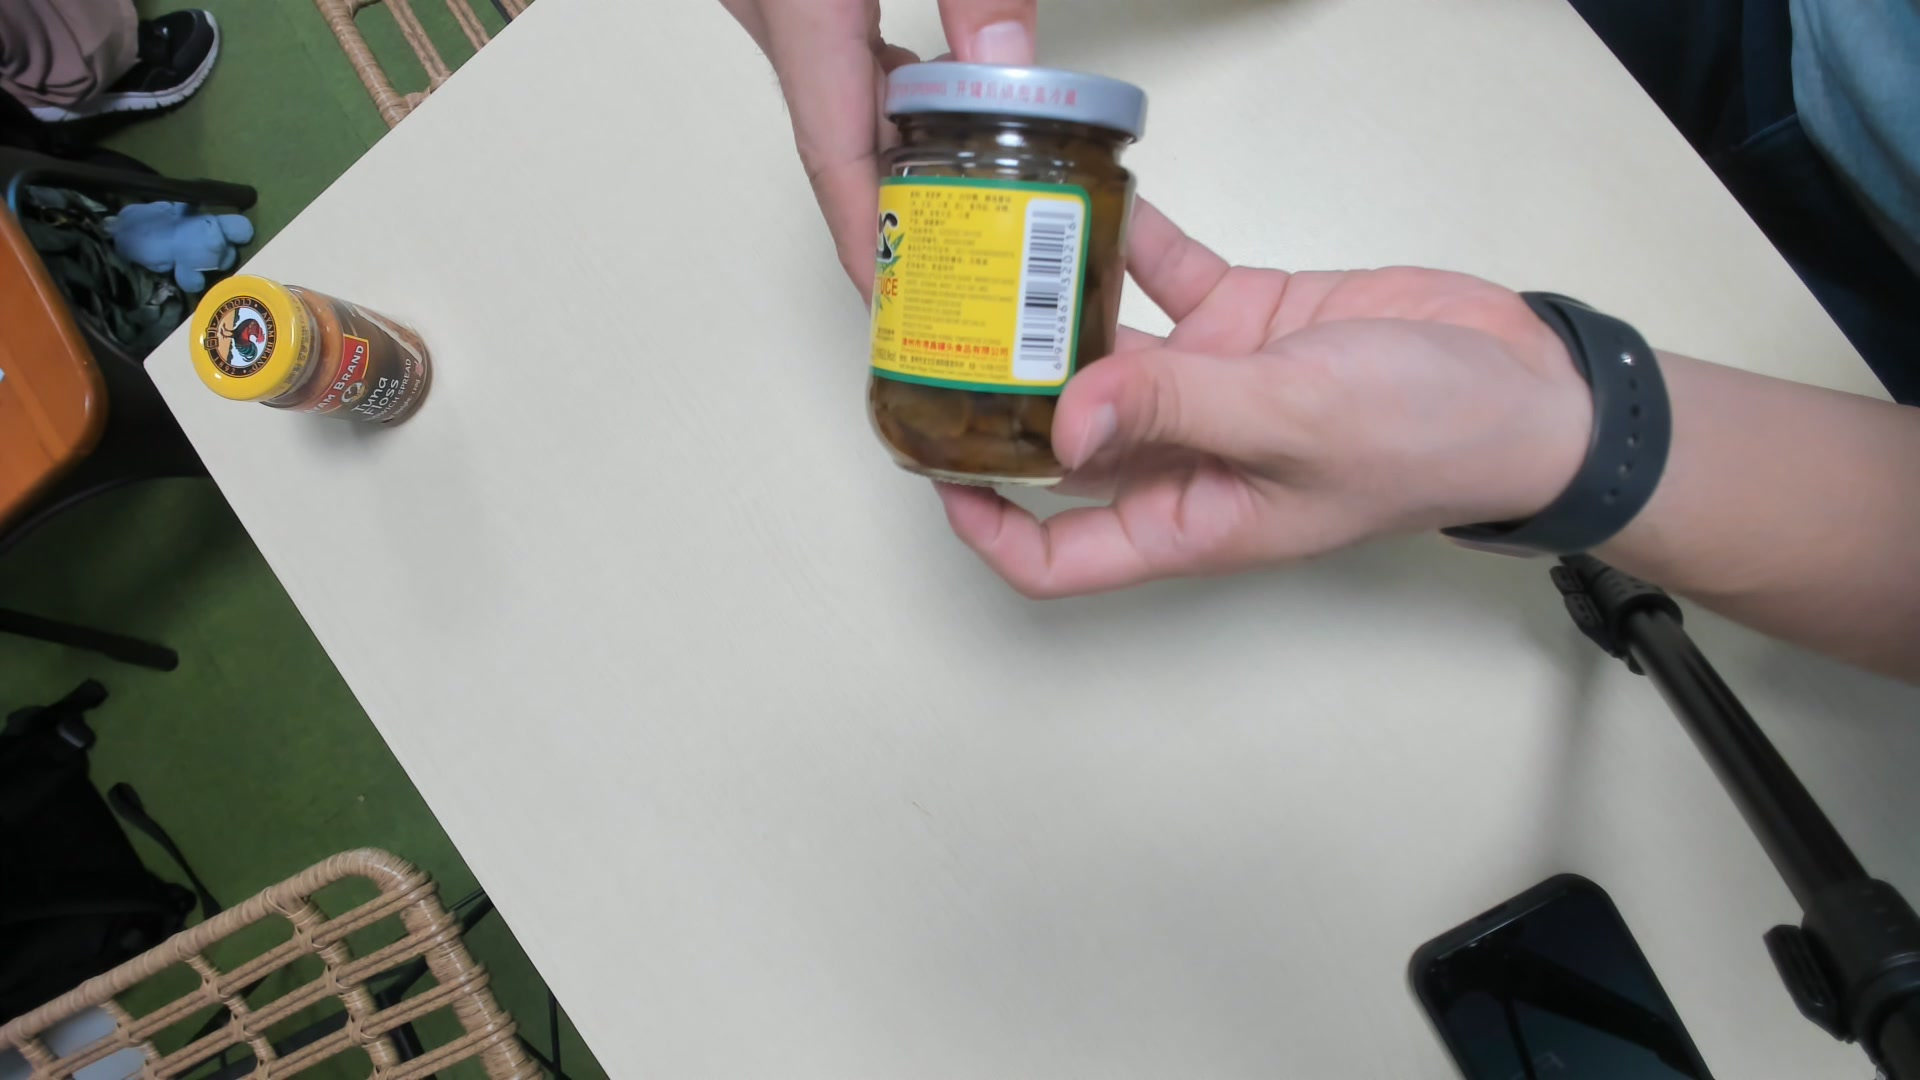OtherSauceDressing_200-299g_Halal_NonHealthy: (866, 61, 1153, 476)
